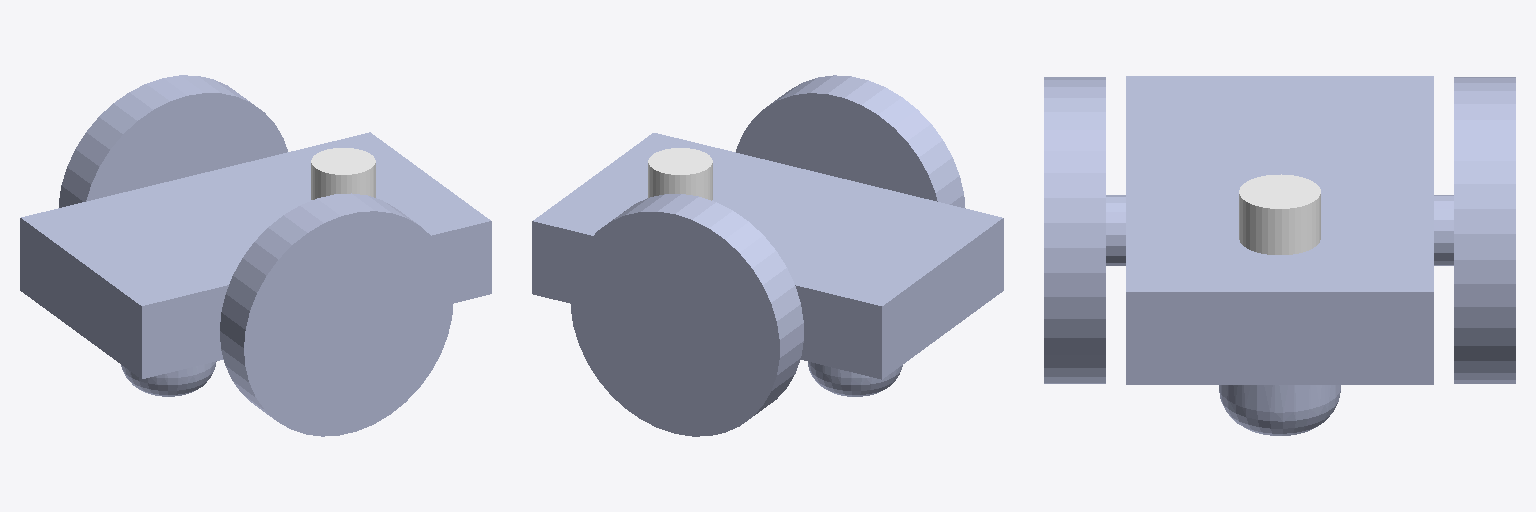
URDF robot description (sambot):
<?xml version="1.0" encoding="utf-8"?>
<!-- This URDF was automatically created by SolidWorks to URDF Exporter! Originally created by [author] ([email redacted]) 
     Commit Version: 1.6.0-4-g7f85cfe  Build Version: 1.6.7995.38578
     For more information, please see http://wiki.ros.org/sw_urdf_exporter -->
<robot
  name="sambot">
  <link
    name="base_link">
    <inertial>
      <origin
        xyz="-0.017682 0.018086 -9.7371E-19"
        rpy="0 0 0" />
      <mass
        value="1.9859" />
      <inertia
        ixx="0.0042333"
        ixy="-2.2145E-19"
        ixz="-3.29E-19"
        iyy="0.014105"
        iyz="1.439E-19"
        izz="0.01174" />
    </inertial>
    <visual>
      <origin
        xyz="0 0 0"
        rpy="0 0 0" />
      <geometry>
        <mesh
          filename="package://sambot/meshes/base_link.STL" />
      </geometry>
      <material
        name="">
        <color
          rgba="0.79216 0.81961 0.93333 1" />
      </material>
    </visual>
    <collision>
      <origin
        xyz="0 0 0"
        rpy="0 0 0" />
      <geometry>
        <mesh
          filename="package://sambot/meshes/base_link.STL" />
      </geometry>
    </collision>
  </link>
  <link
    name="wheel_left_link">
    <inertial>
      <origin
        xyz="5.2042E-18 0.043451 -2.0817E-17"
        rpy="0 0 0" />
      <mass
        value="0.55901" />
      <inertia
        ixx="0.00081429"
        ixy="1.4223E-20"
        ixz="-2.7105E-20"
        iyy="0.0014954"
        iyz="-2.7284E-21"
        izz="0.00081429" />
    </inertial>
    <visual>
      <origin
        xyz="0 0 0"
        rpy="0 0 0" />
      <geometry>
        <mesh
          filename="package://sambot/meshes/wheel_left_link.STL" />
      </geometry>
      <material
        name="">
        <color
          rgba="0.79216 0.81961 0.93333 1" />
      </material>
    </visual>
    <collision>
      <origin
        xyz="0 0 0"
        rpy="0 0 0" />
      <geometry>
        <mesh
          filename="package://sambot/meshes/wheel_left_link.STL" />
      </geometry>
    </collision>
  </link>
  <joint
    name="wheel_left"
    type="continuous">
    <origin
      xyz="-0.017682 0.055 0.024231"
      rpy="0 -0.99017 0" />
    <parent
      link="base_link" />
    <child
      link="wheel_left_link" />
    <axis
      xyz="0 1 0" />
  </joint>
  <link
    name="wheel_right_link">
    <inertial>
      <origin
        xyz="-1.0408E-17 0.043451 1.5613E-17"
        rpy="0 0 0" />
      <mass
        value="0.55901" />
      <inertia
        ixx="0.00081429"
        ixy="3.2268E-20"
        ixz="0"
        iyy="0.0014954"
        iyz="-9.9525E-22"
        izz="0.00081429" />
    </inertial>
    <visual>
      <origin
        xyz="0 0 0"
        rpy="0 0 0" />
      <geometry>
        <mesh
          filename="package://sambot/meshes/wheel_right_link.STL" />
      </geometry>
      <material
        name="">
        <color
          rgba="0.79216 0.81961 0.93333 1" />
      </material>
    </visual>
    <collision>
      <origin
        xyz="0 0 0"
        rpy="0 0 0" />
      <geometry>
        <mesh
          filename="package://sambot/meshes/wheel_right_link.STL" />
      </geometry>
    </collision>
  </link>
  <joint
    name="wheel_right"
    type="continuous">
    <origin
      xyz="-0.017682 -0.055 0.024231"
      rpy="3.1416 0.58799 0" />
    <parent
      link="base_link" />
    <child
      link="wheel_right_link" />
    <axis
      xyz="0 1 0" />
  </joint>
  <link
    name="lidar_link">
    <inertial>
      <origin
        xyz="0 0 0"
        rpy="0 0 0" />
      <mass
        value="0" />
      <inertia
        ixx="0"
        ixy="0"
        ixz="0"
        iyy="0"
        iyz="0"
        izz="0" />
    </inertial>
    <visual>
      <origin
        xyz="0 0 0"
        rpy="0 0 0" />
      <geometry>
        <mesh
          filename="package://sambot/meshes/lidar_link.STL" />
      </geometry>
      <material
        name="">
        <color
          rgba="1 1 1 1" />
      </material>
    </visual>
    <collision>
      <origin
        xyz="0 0 0"
        rpy="0 0 0" />
      <geometry>
        <mesh
          filename="package://sambot/meshes/lidar_link.STL" />
      </geometry>
    </collision>
  </link>
  <joint
    name="lidar"
    type="fixed">
    <origin
      xyz="0.044818 0 0.049231"
      rpy="1.5708 0 0" />
    <parent
      link="base_link" />
    <child
      link="lidar_link" />
    <axis
      xyz="0 1 0" />
  </joint>
</robot>

--- Render facts (derived) ---
The picture shows the robot from 3 angles, left to right: view 1: azimuth 30°, elevation 25°; view 2: azimuth 150°, elevation 25°; view 3: azimuth 270°, elevation 25°; orthographic projection.
Model sambot with 4 links and 3 joints (2 continuous, 1 fixed), rooted at base_link, posed every joint at zero.
Links seen in each view (by area): view 1: base_link, wheel_right_link, wheel_left_link, lidar_link; view 2: base_link, wheel_left_link, wheel_right_link, lidar_link; view 3: base_link, wheel_left_link, wheel_right_link, lidar_link.
Boxes of the visible links, box(x1,y1,x2,y2) form: base_link: box(20, 132, 491, 396); wheel_right_link: box(220, 193, 453, 436); wheel_left_link: box(59, 75, 287, 207); lidar_link: box(311, 148, 375, 199); base_link: box(532, 133, 1003, 396); wheel_left_link: box(570, 194, 803, 436); wheel_right_link: box(736, 75, 965, 208); lidar_link: box(648, 148, 712, 200); base_link: box(1126, 76, 1433, 435); wheel_left_link: box(1434, 77, 1515, 383); wheel_right_link: box(1044, 77, 1125, 383); lidar_link: box(1239, 174, 1320, 254).
Size in the robot's own frame: 0.25 by 0.23 by 0.15 metres.
Meshes: 4 distinct files referenced, 4 mesh visuals loaded (4 binary STL).